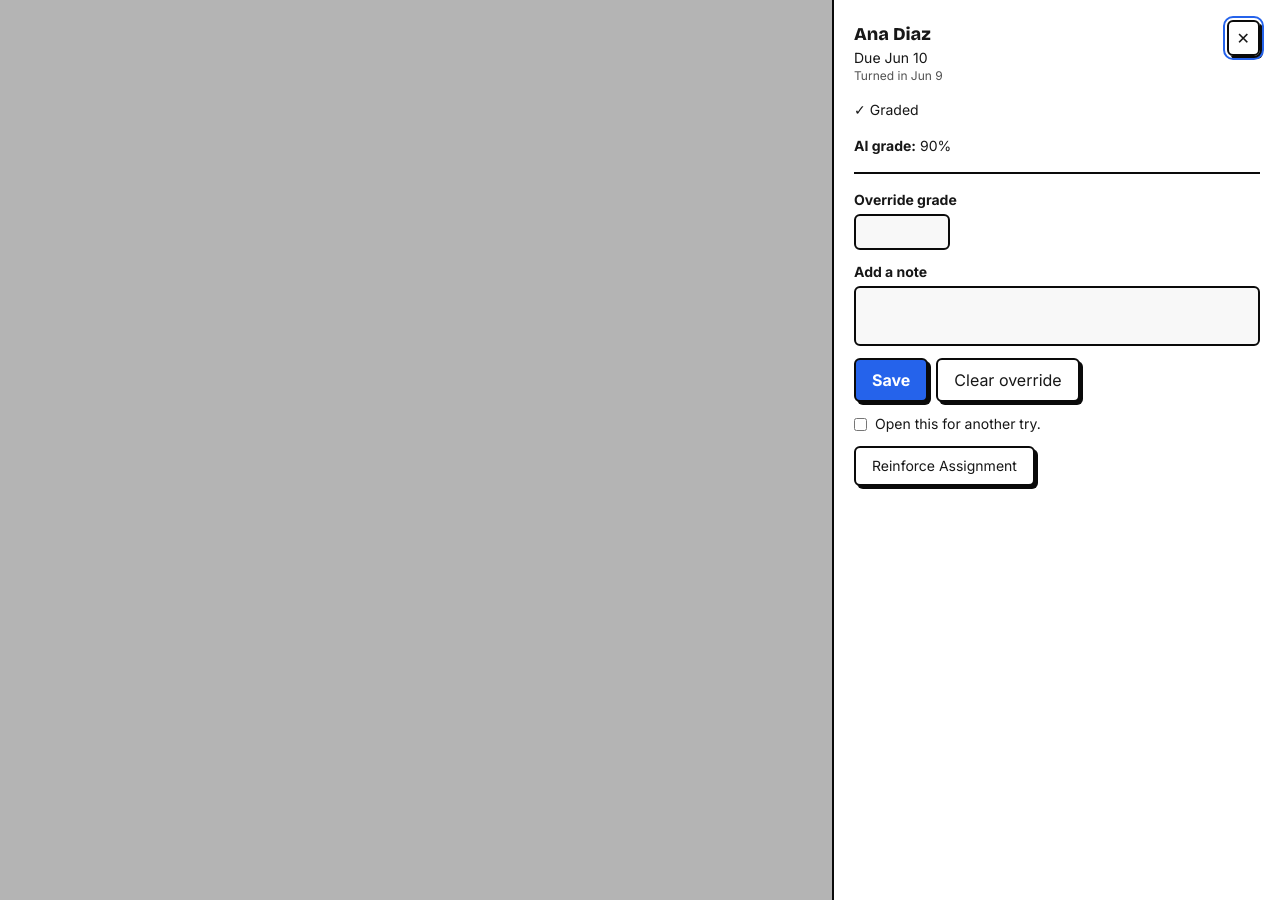
GradebookDrillIn — Reinforce Assignment button › shows the done message after a 202 response
Click the button "Reinforce Assignment" at (944, 466), box [854,446,1035,486]
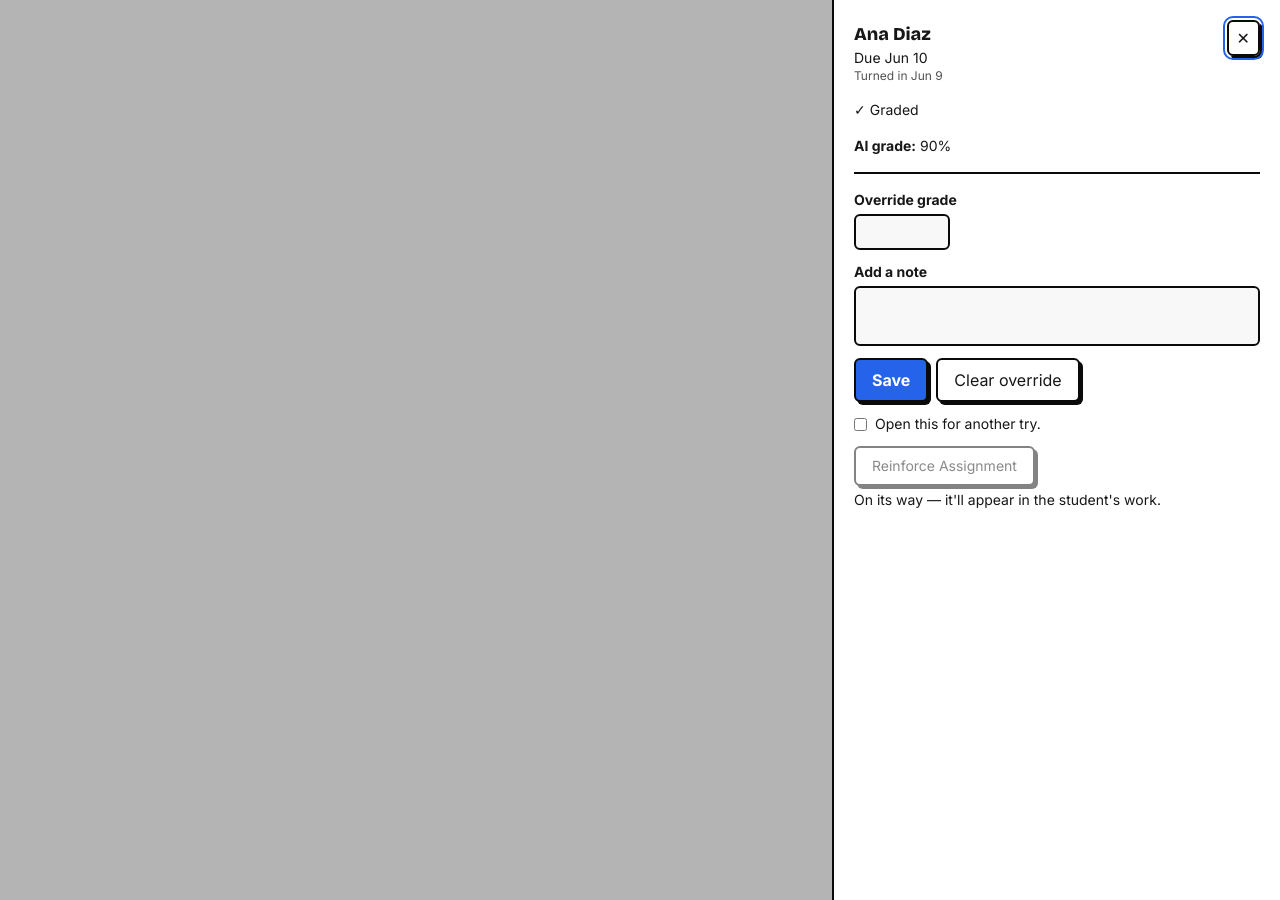
Expected: the text "On its way — it'll appear in the student's work." is shown, [854,491,1161,508]
